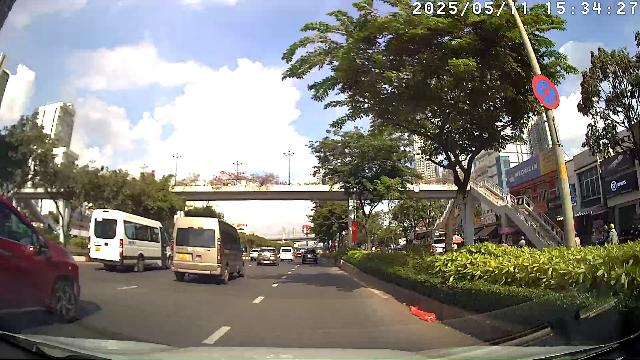130-cam-dung-va-do-xe: (532, 75, 561, 110)
